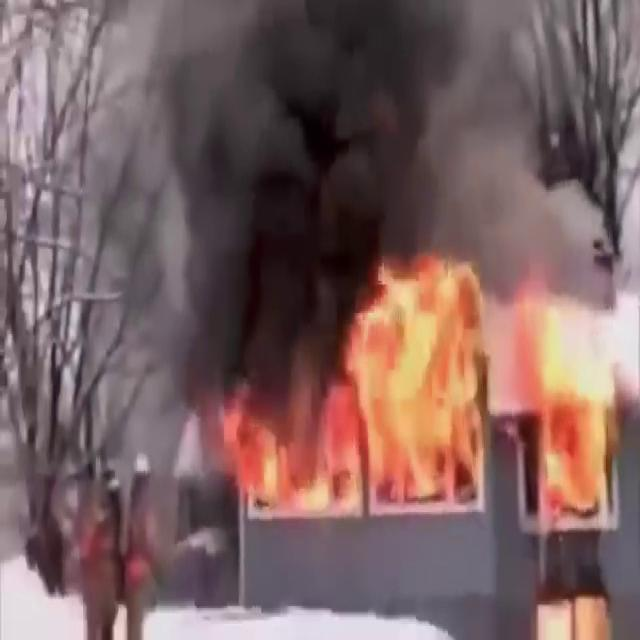Fire: (214, 253, 496, 528), (508, 274, 615, 510)
Smoke: (135, 0, 603, 331)
